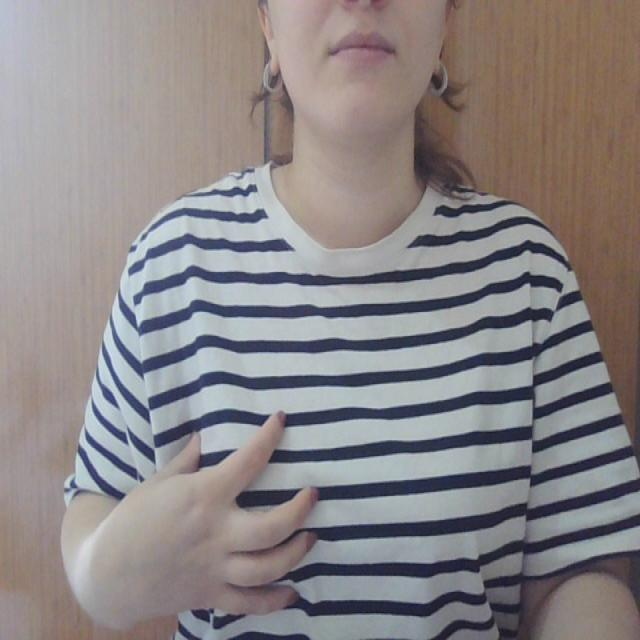Anne: (114, 401, 503, 637)
